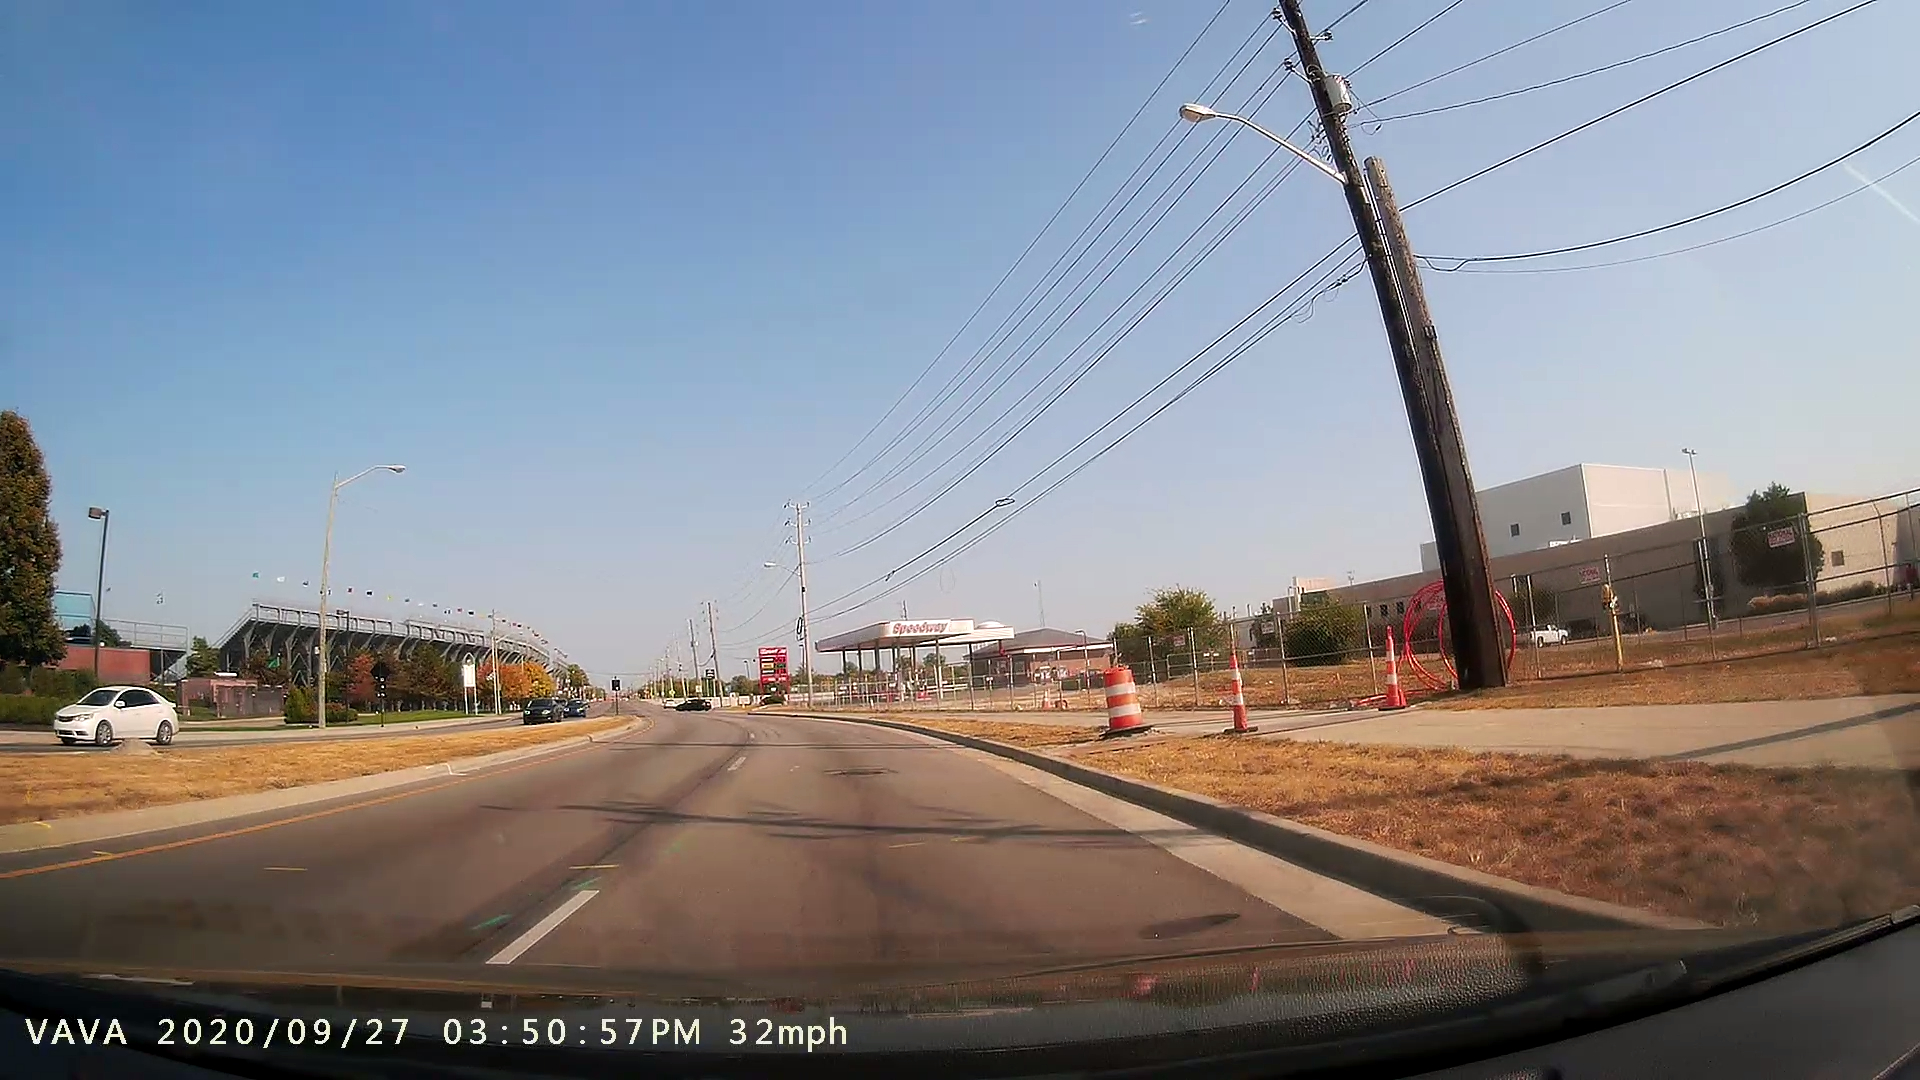const_barrel: (1095, 657, 1156, 741)
const_looper_cone: (1218, 642, 1269, 740)
